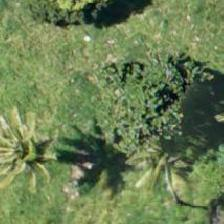coconut_tree: (0, 112, 67, 202)
